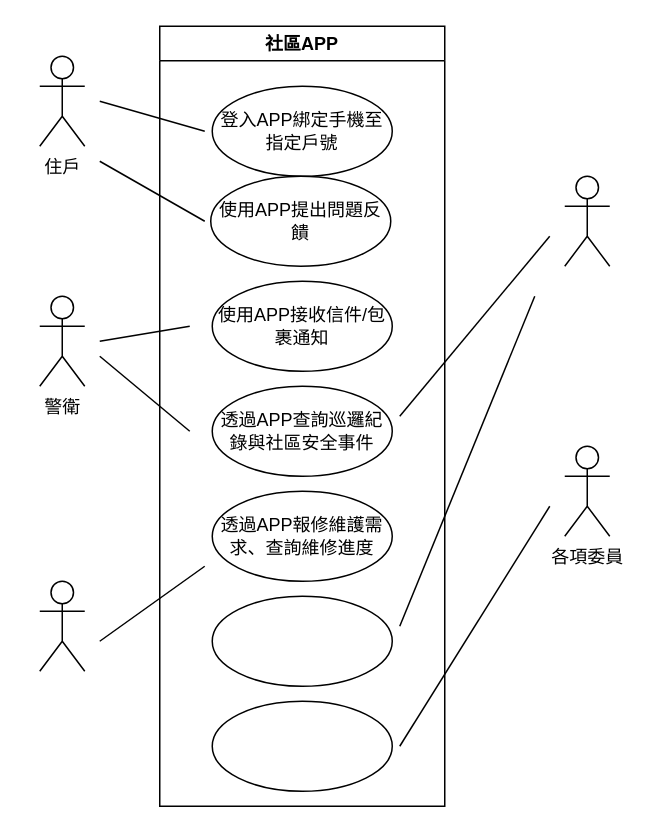
This 666x833 diagram has some shape labels left out. The centre of each missing label's shape, as x and y in pixels:
使用APP舉辦/報名社區活動: the point at 301,640
大樓主任委員: the point at 586,220
維護人員: the point at 61,625
透過APP查閱社區公告: the point at 301,745
